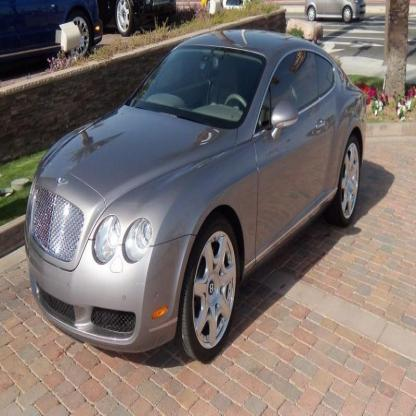Vehicle: (24, 32, 367, 362)
